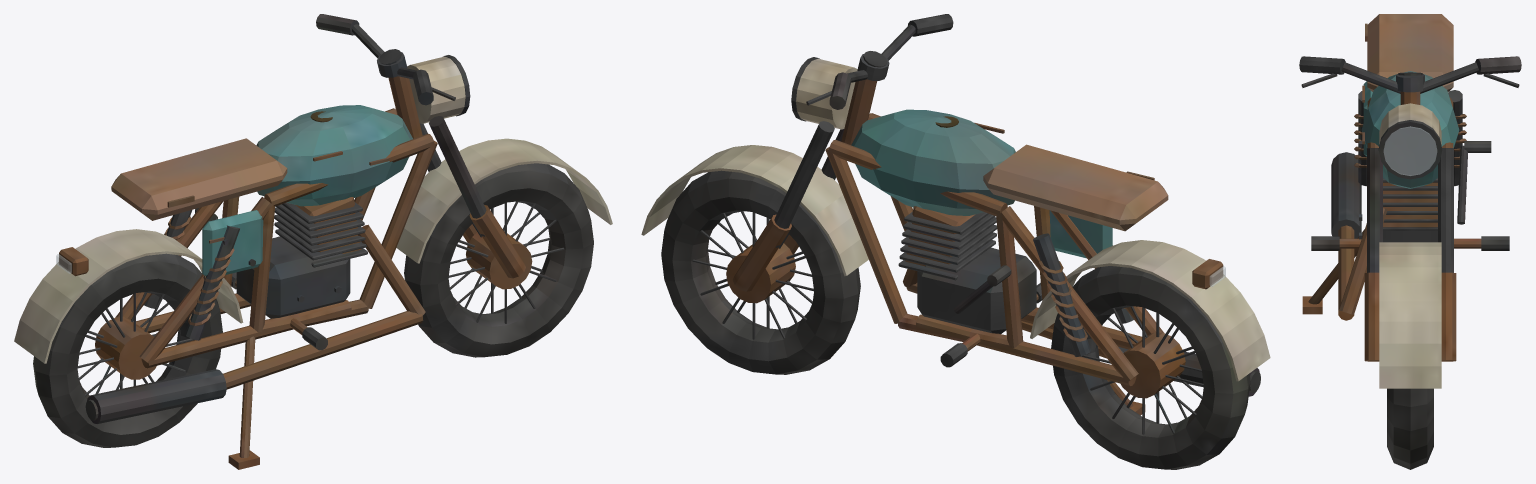
File: V10_old_motorcycle.glb
3 renders of one model, left to right at view 1: azimuth 30°, elevation 25°; view 2: azimuth 150°, elevation 25°; view 3: azimuth 270°, elevation 25°, orthographic. The views are drawn at different scales.
Parts seen in each view (by area): view 1: Weathered narrow tire; view 2: Weathered narrow tire; view 3: Weathered narrow tire.
Boxes of the visible parts, box(x1,y1,x2,y2) form: Weathered narrow tire: box(14, 14, 612, 469); Weathered narrow tire: box(641, 14, 1270, 469); Weathered narrow tire: box(1299, 14, 1521, 469).
Bounding box in the file's own units: 2 × 1.13 × 0.6616.
Materials: 8 (7 with a texture image).
